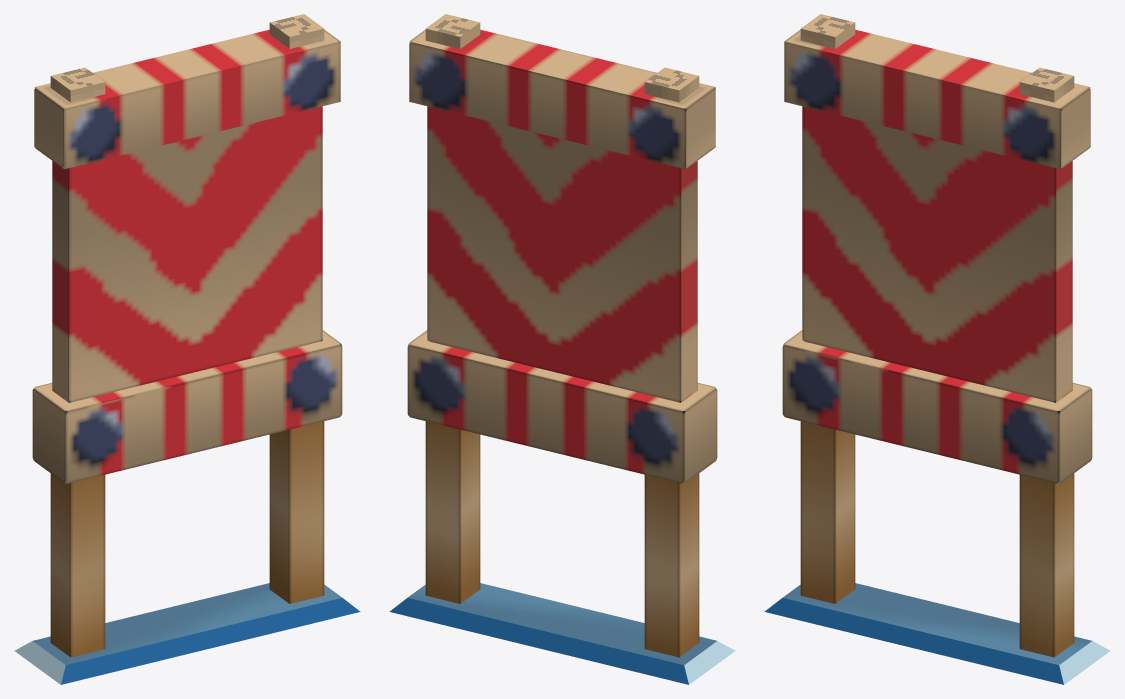
File: BangChangTren.fbx
3 views of the same model, side by side, from view 1: azimuth 30°, elevation 25°; view 2: azimuth 150°, elevation 25°; view 3: azimuth 330°, elevation 25° (orthographic).
Parts seen in each view (by area): view 1: cuboid_2, cuboid, cuboid_1, cuboid_3; view 2: cuboid_2, cuboid, cuboid_1, cuboid_3; view 3: cuboid_2, cuboid, cuboid_1, cuboid_3.
Boxes of the visible parts, <box> form: cuboid_2: <box>32,29,342,483</box>; cuboid: <box>50,421,324,657</box>; cuboid_1: <box>14,583,360,684</box>; cuboid_3: <box>50,14,324,102</box>; cuboid_2: <box>407,29,717,483</box>; cuboid: <box>425,421,699,657</box>; cuboid_1: <box>389,583,735,684</box>; cuboid_3: <box>425,14,699,102</box>; cuboid_2: <box>782,29,1092,483</box>; cuboid: <box>800,421,1074,657</box>; cuboid_1: <box>764,583,1110,684</box>; cuboid_3: <box>800,14,1074,102</box>.
Size of the model in its own units: 162 by 300 by 43.75.
Materials: 4 (4 with a texture image).
